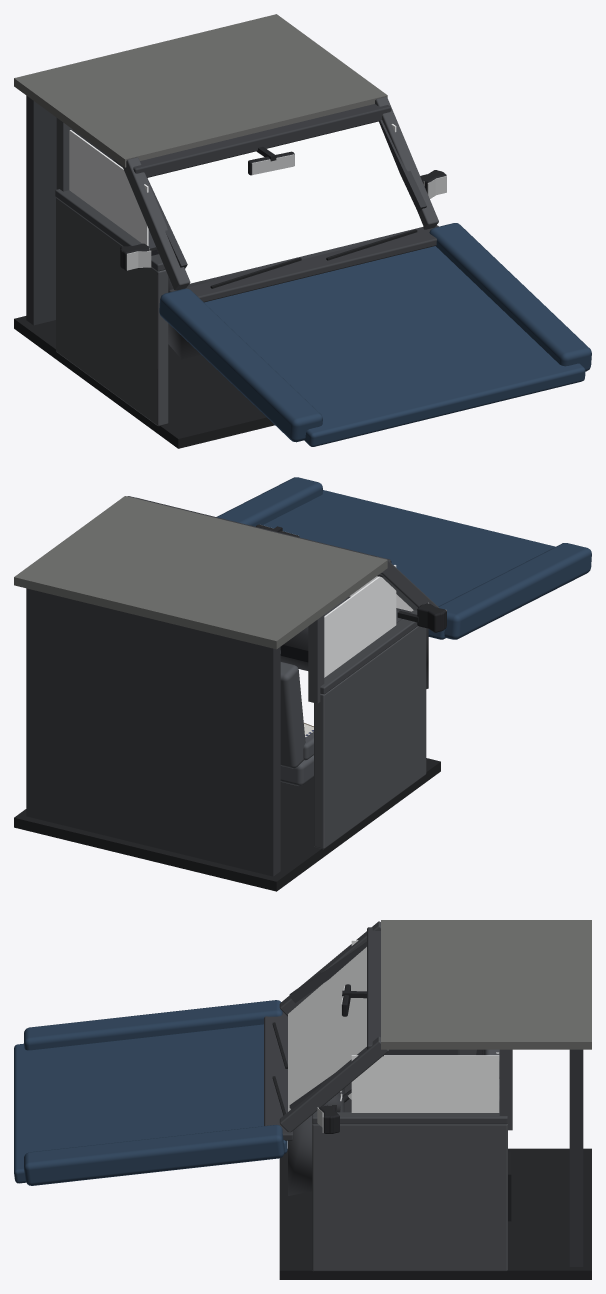
The model's file is cabine.glb.
3 views of the same model, one above another, from view 1: azimuth 30°, elevation 25°; view 2: azimuth 150°, elevation 25°; view 3: azimuth 270°, elevation 25° (orthographic). The views are drawn at different scales.
Visible parts, largest first — view 1: cabine, est_retro_ok, est_retro_desregulado; view 2: cabine; view 3: cabine.
Part boxes in pixels (bbox=[...]): cabine: bbox=[14, 14, 591, 448]; est_retro_ok: bbox=[120, 171, 446, 270]; est_retro_desregulado: bbox=[120, 170, 443, 268]; cabine: bbox=[14, 477, 591, 891]; cabine: bbox=[14, 920, 591, 1279].
Bounding box in the file's own units: 2.07 × 1.53 × 3.37.
